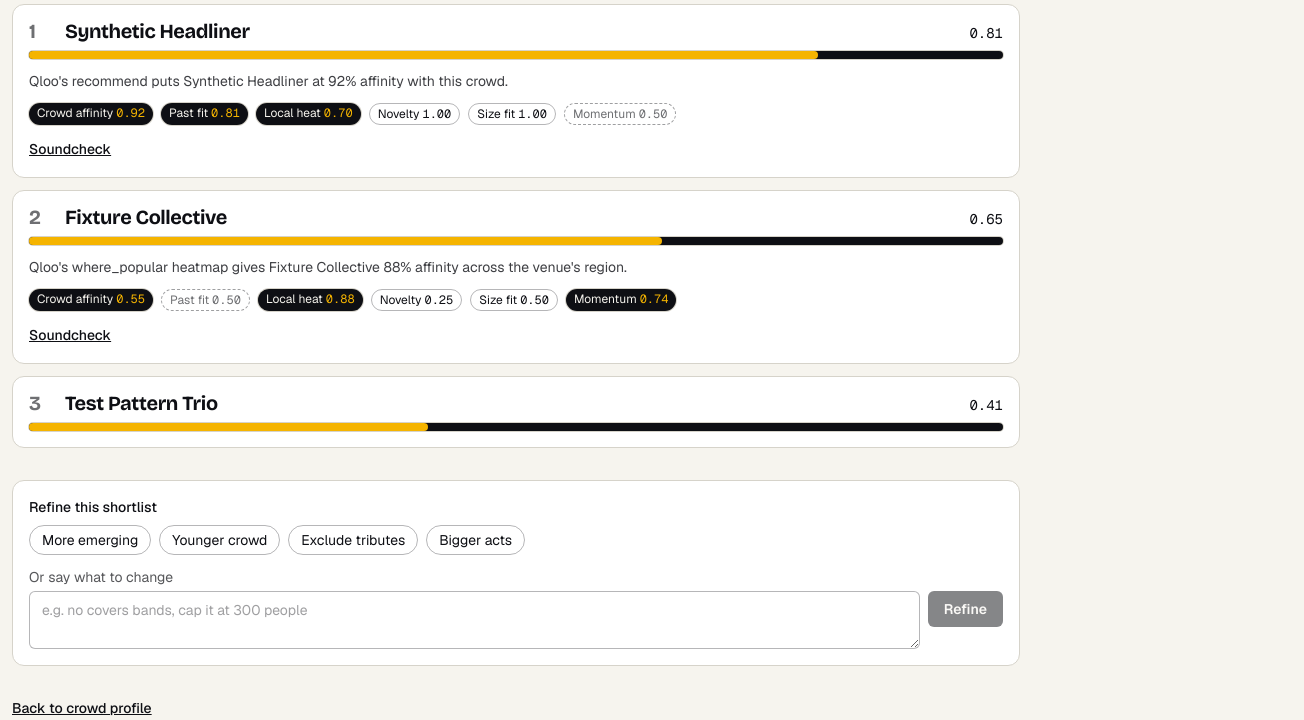
Test: refinable run › chains three successive refinements, each to the run before it
(page scrolled)
Step 1. Click the button "More emerging" → (90, 540), box 29,525 -> 151,555
(page scrolled)
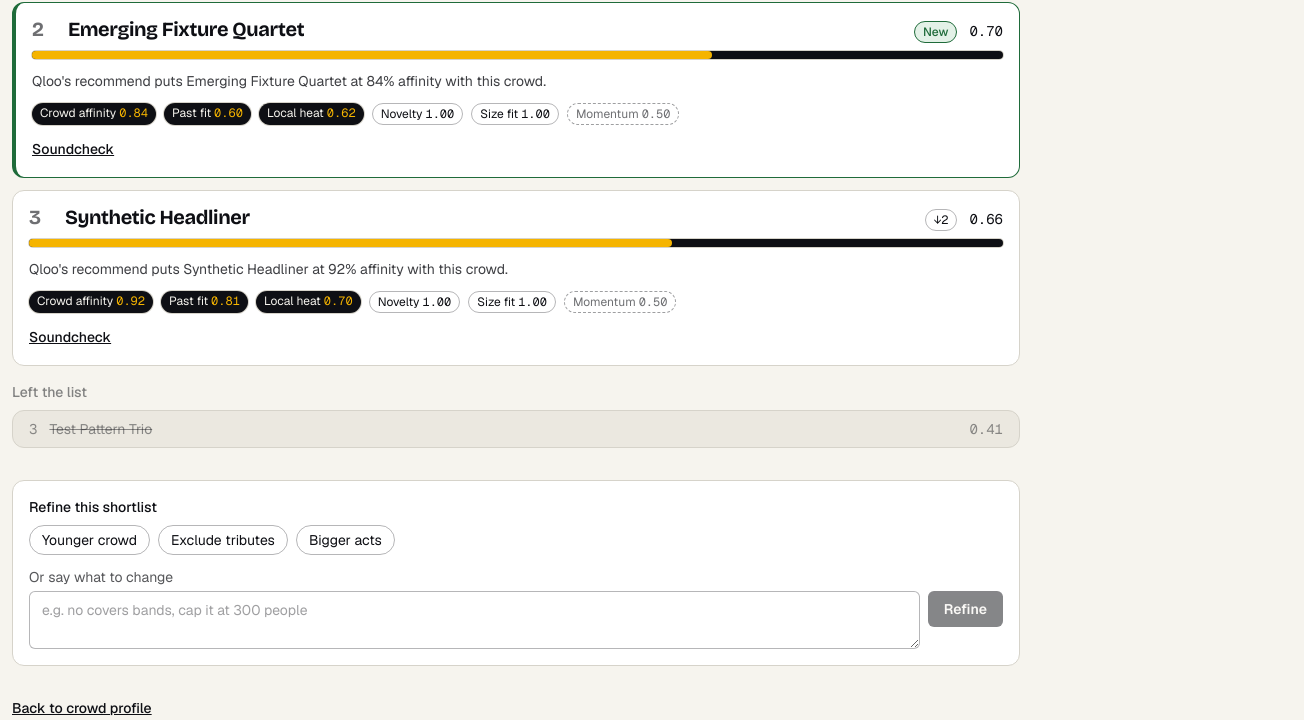
Check: the heading "Emerging Fixture Quartet" is shown, box 68,17 -> 304,41
Step 2. Click the button "Exclude tributes" → (223, 540), box 158,525 -> 288,555
(page scrolled)
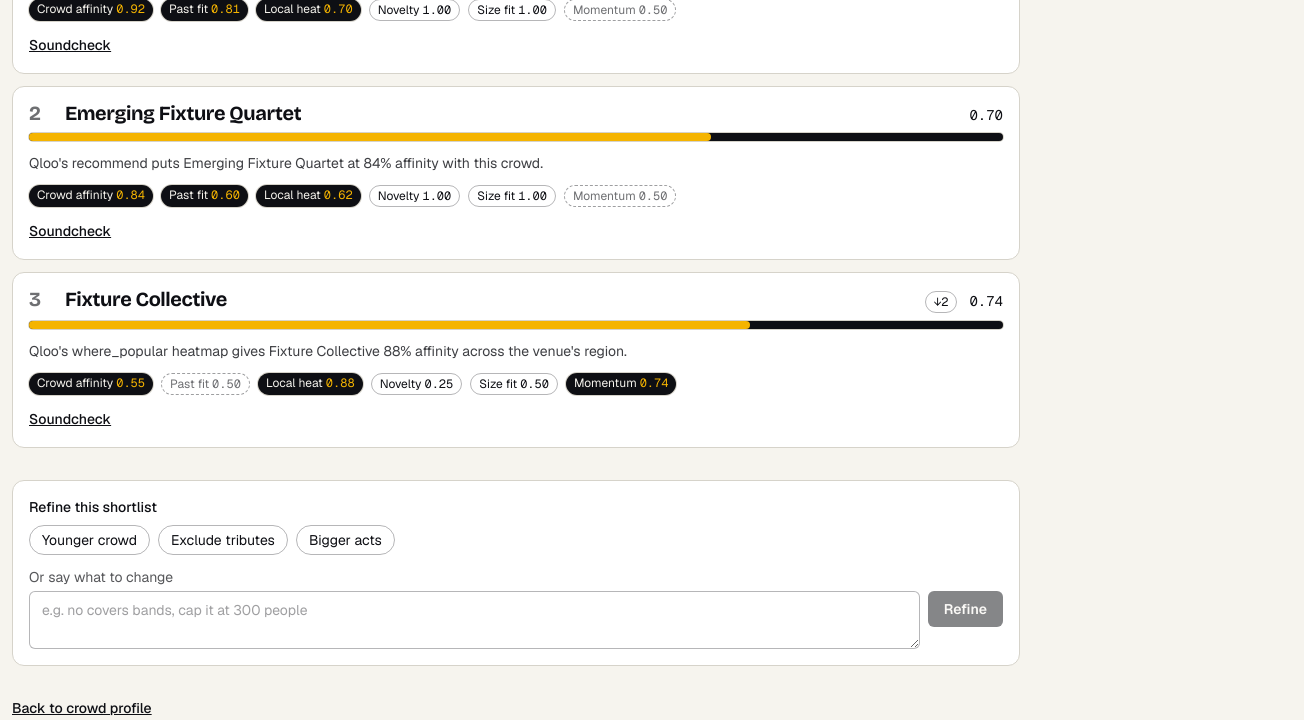
Step 3. Type "Cap it at 300" into the text box labelled "Or say what to change" → (474, 620), box 29,591 -> 920,649
Then press Enter
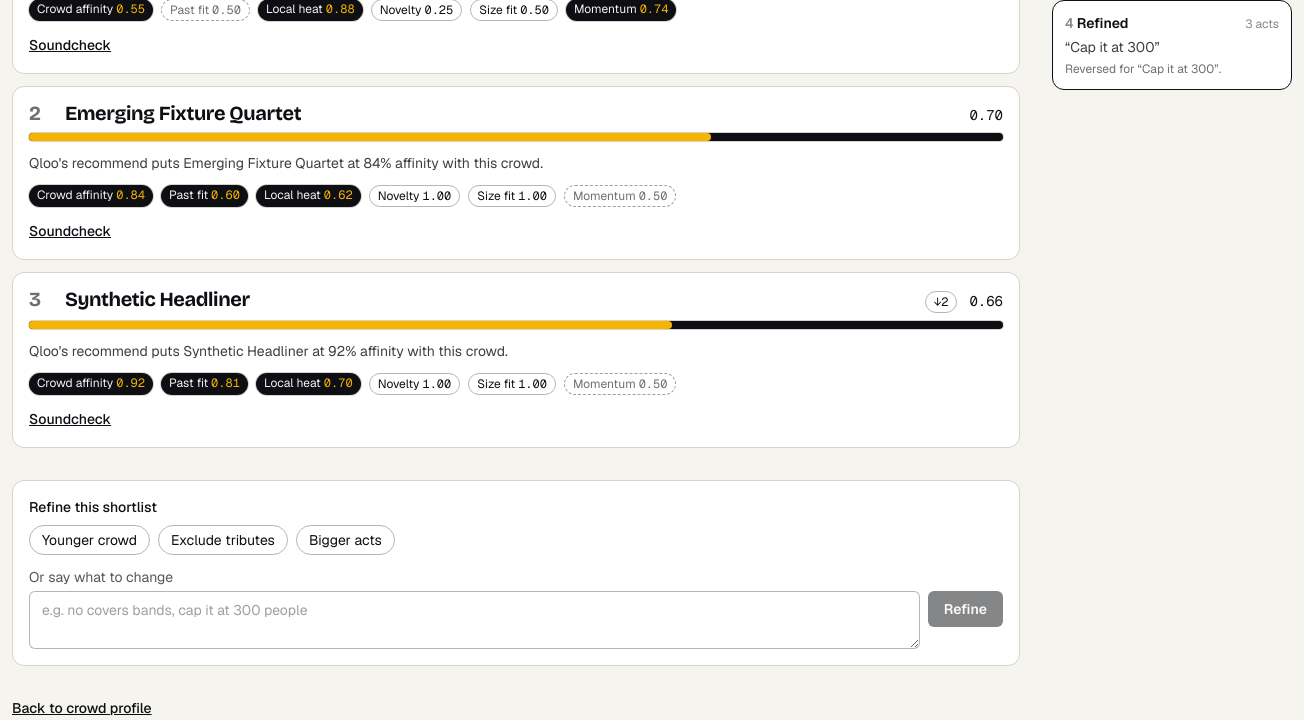
Check: the text "“Cap it at 300”" is shown, box 1065,38 -> 1160,56
